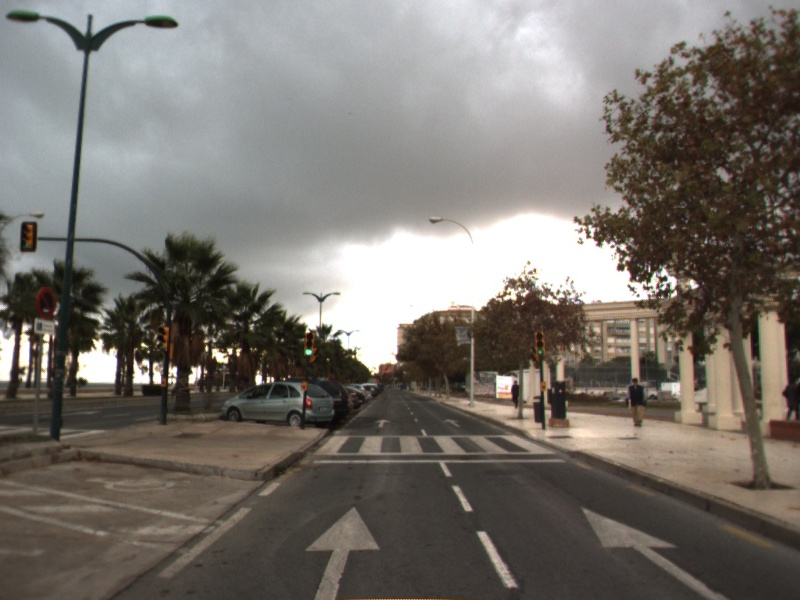STRAIGHT: (578, 504, 732, 600), (303, 504, 383, 600), (441, 417, 463, 429), (373, 417, 393, 430)
